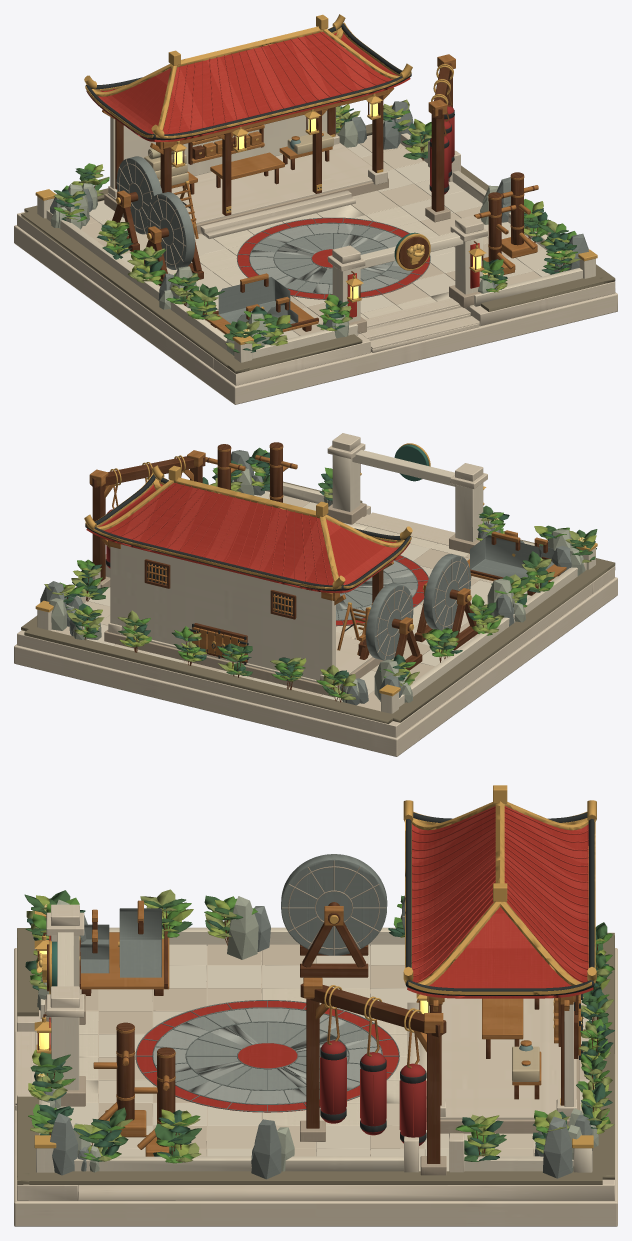
Rendered from martial-lod0-a469fd8102fb.glb.
3 views of the same model, one above another, from view 1: azimuth 30°, elevation 25°; view 2: azimuth 150°, elevation 25°; view 3: azimuth 270°, elevation 25° (orthographic). The views are drawn at different scales.
Parts seen in each view (by area): view 1: SM_Martial_MAT_CT2_Stone.008, SM_Martial_MAT_CT2_IvoryPlaster.008, SM_Martial_MAT_CT2_FoldedTerracotta.008, SM_Martial_MAT_CT2_DarkTimber.008, SM_Martial_MAT_CT2_TrainingStone.008, SM_Martial_MAT_CT2_FoldedTerracottaAlt.008, SM_Martial_MAT_CT2_HoneyTimber.008, SM_Martial_MAT_CT2_MatteCopper.008, SM_Martial_MAT_CT2_PlantingSoil.008, SM_Martial_MAT_CT2_PavingTone_1.008, SM_Martial_MAT_CT2_PracticeGreyStoneLight.008, SM_Martial_MAT_CT2_PracticeGreyStone.008 (+16 smaller); view 2: SM_Martial_MAT_CT2_IvoryPlaster.008, SM_Martial_MAT_CT2_Stone.008, SM_Martial_MAT_CT2_FoldedTerracotta.008, SM_Martial_MAT_CT2_TrainingStone.008, SM_Martial_MAT_CT2_PlantingSoil.008, SM_Martial_MAT_CT2_DarkTimber.008, SM_Martial_MAT_CT2_FoldedTerracottaAlt.008, SM_Martial_MAT_CT2_MatteCopper.008, SM_Martial_MAT_CT2_HoneyTimber.008, SM_Martial_MAT_CT2_StoneShadow.008, SM_Martial_MAT_CT2_FacetedRockLight.008, SM_Martial_MAT_CT2_LeafBright.008 (+14 smaller); view 3: SM_Martial_MAT_CT2_Stone.008, SM_Martial_MAT_CT2_FoldedTerracotta.008, SM_Martial_MAT_CT2_TrainingStone.008, SM_Martial_MAT_CT2_IvoryPlaster.008, SM_Martial_MAT_CT2_FoldedTerracottaAlt.008, SM_Martial_MAT_CT2_DarkTimber.008, SM_Martial_MAT_CT2_PlantingSoil.008, SM_Martial_MAT_CT2_HoneyTimber.008, SM_Martial_MAT_CT2_MatteCopper.008, SM_Martial_MAT_CT2_PavingTone_1.008, SM_Martial_MAT_CT2_PracticeGreyStoneLight.008, SM_Martial_MAT_CT2_PavingTone_3.008 (+15 smaller).
Part boxes in pixels (x1=…): SM_Martial_MAT_CT2_Stone.008: x1=14, y1=134, x2=617, y2=404; SM_Martial_MAT_CT2_IvoryPlaster.008: x1=37, y1=107, x2=595, y2=362; SM_Martial_MAT_CT2_FoldedTerracotta.008: x1=104, y1=32, x2=479, y2=317; SM_Martial_MAT_CT2_DarkTimber.008: x1=71, y1=63, x2=564, y2=340; SM_Martial_MAT_CT2_TrainingStone.008: x1=50, y1=101, x2=588, y2=331; SM_Martial_MAT_CT2_FoldedTerracottaAlt.008: x1=86, y1=32, x2=450, y2=184; SM_Martial_MAT_CT2_HoneyTimber.008: x1=102, y1=54, x2=538, y2=334; SM_Martial_MAT_CT2_MatteCopper.008: x1=35, y1=14, x2=597, y2=344; SM_Martial_MAT_CT2_PlantingSoil.008: x1=21, y1=124, x2=615, y2=373; SM_Martial_MAT_CT2_PavingTone_1.008: x1=157, y1=143, x2=551, y2=338; SM_Martial_MAT_CT2_PracticeGreyStoneLight.008: x1=250, y1=223, x2=401, y2=293; SM_Martial_MAT_CT2_PracticeGreyStone.008: x1=253, y1=224, x2=411, y2=292; SM_Martial_MAT_CT2_IvoryPlaster.008: x1=37, y1=450, x2=595, y2=713; SM_Martial_MAT_CT2_Stone.008: x1=14, y1=433, x2=617, y2=756; SM_Martial_MAT_CT2_FoldedTerracotta.008: x1=90, y1=483, x2=428, y2=626; SM_Martial_MAT_CT2_TrainingStone.008: x1=40, y1=450, x2=571, y2=705; SM_Martial_MAT_CT2_PlantingSoil.008: x1=21, y1=481, x2=615, y2=723; SM_Martial_MAT_CT2_DarkTimber.008: x1=67, y1=442, x2=560, y2=702; SM_Martial_MAT_CT2_FoldedTerracottaAlt.008: x1=86, y1=483, x2=410, y2=593; SM_Martial_MAT_CT2_MatteCopper.008: x1=35, y1=443, x2=597, y2=696; SM_Martial_MAT_CT2_HoneyTimber.008: x1=89, y1=445, x2=566, y2=661; SM_Martial_MAT_CT2_StoneShadow.008: x1=100, y1=502, x2=480, y2=697; SM_Martial_MAT_CT2_FacetedRockLight.008: x1=49, y1=468, x2=585, y2=702; SM_Martial_MAT_CT2_LeafBright.008: x1=59, y1=450, x2=582, y2=698; SM_Martial_MAT_CT2_Stone.008: x1=14, y1=904, x2=617, y2=1226; SM_Martial_MAT_CT2_FoldedTerracotta.008: x1=49, y1=808, x2=593, y2=1112; SM_Martial_MAT_CT2_TrainingStone.008: x1=43, y1=854, x2=592, y2=1179; SM_Martial_MAT_CT2_IvoryPlaster.008: x1=36, y1=927, x2=592, y2=1172; SM_Martial_MAT_CT2_FoldedTerracottaAlt.008: x1=320, y1=806, x2=593, y2=1135; SM_Martial_MAT_CT2_DarkTimber.008: x1=37, y1=902, x2=598, y2=1163; SM_Martial_MAT_CT2_PlantingSoil.008: x1=17, y1=928, x2=614, y2=1184; SM_Martial_MAT_CT2_HoneyTimber.008: x1=80, y1=900, x2=580, y2=1156; SM_Martial_MAT_CT2_MatteCopper.008: x1=34, y1=785, x2=596, y2=1148; SM_Martial_MAT_CT2_PavingTone_1.008: x1=99, y1=944, x2=587, y2=1171; SM_Martial_MAT_CT2_PracticeGreyStoneLight.008: x1=153, y1=1008, x2=381, y2=1103; SM_Martial_MAT_CT2_PavingTone_3.008: x1=57, y1=944, x2=467, y2=1171.
Size of the model in its own units: 10 by 4.81 by 10.
34 materials, 12 textured.
